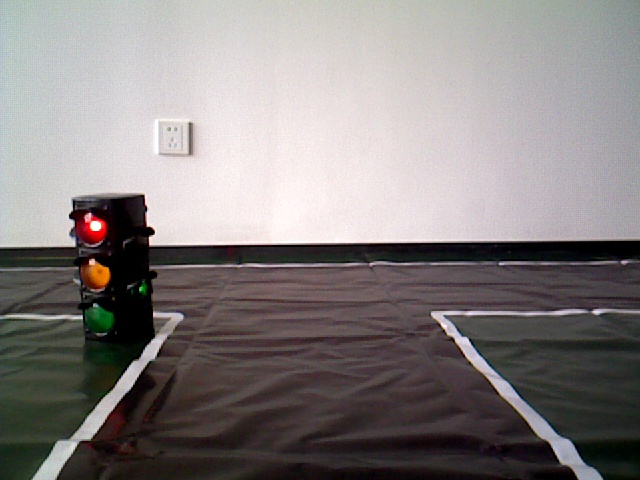red: (72, 196, 149, 352)
